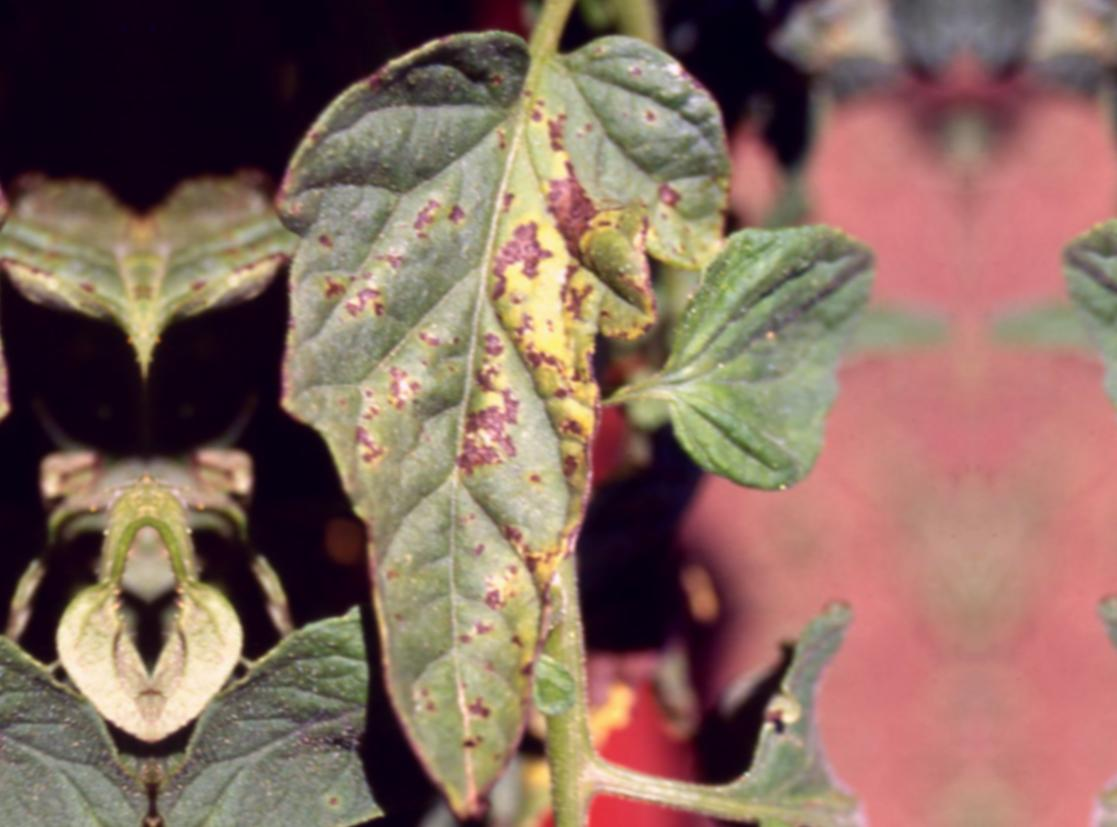Tomato leaf bacterial spot: (263, 2, 739, 827), (612, 188, 925, 511)
